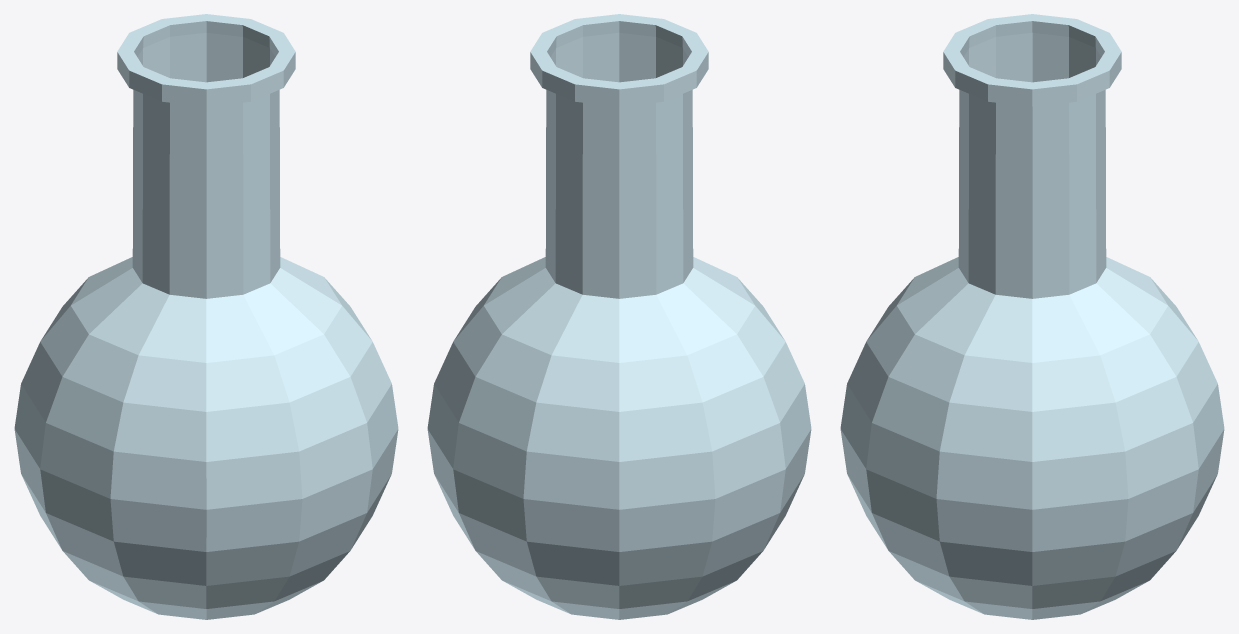
File: PotionBlackHole.glb
3 renders of one model, left to right at view 1: azimuth 30°, elevation 25°; view 2: azimuth 150°, elevation 25°; view 3: azimuth 270°, elevation 25°, orthographic.
Visible parts, largest first — view 1: Sphere.001; view 2: Sphere.001; view 3: Sphere.001.
Part boxes in pixels (left/top/right/bottom): Sphere.001: left=14, top=14, right=398, bottom=619; Sphere.001: left=427, top=14, right=811, bottom=619; Sphere.001: left=840, top=14, right=1224, bottom=619.
Bounding box in the file's own units: 0.4224 × 0.6688 × 0.4224.
2 materials, 2 textured.
